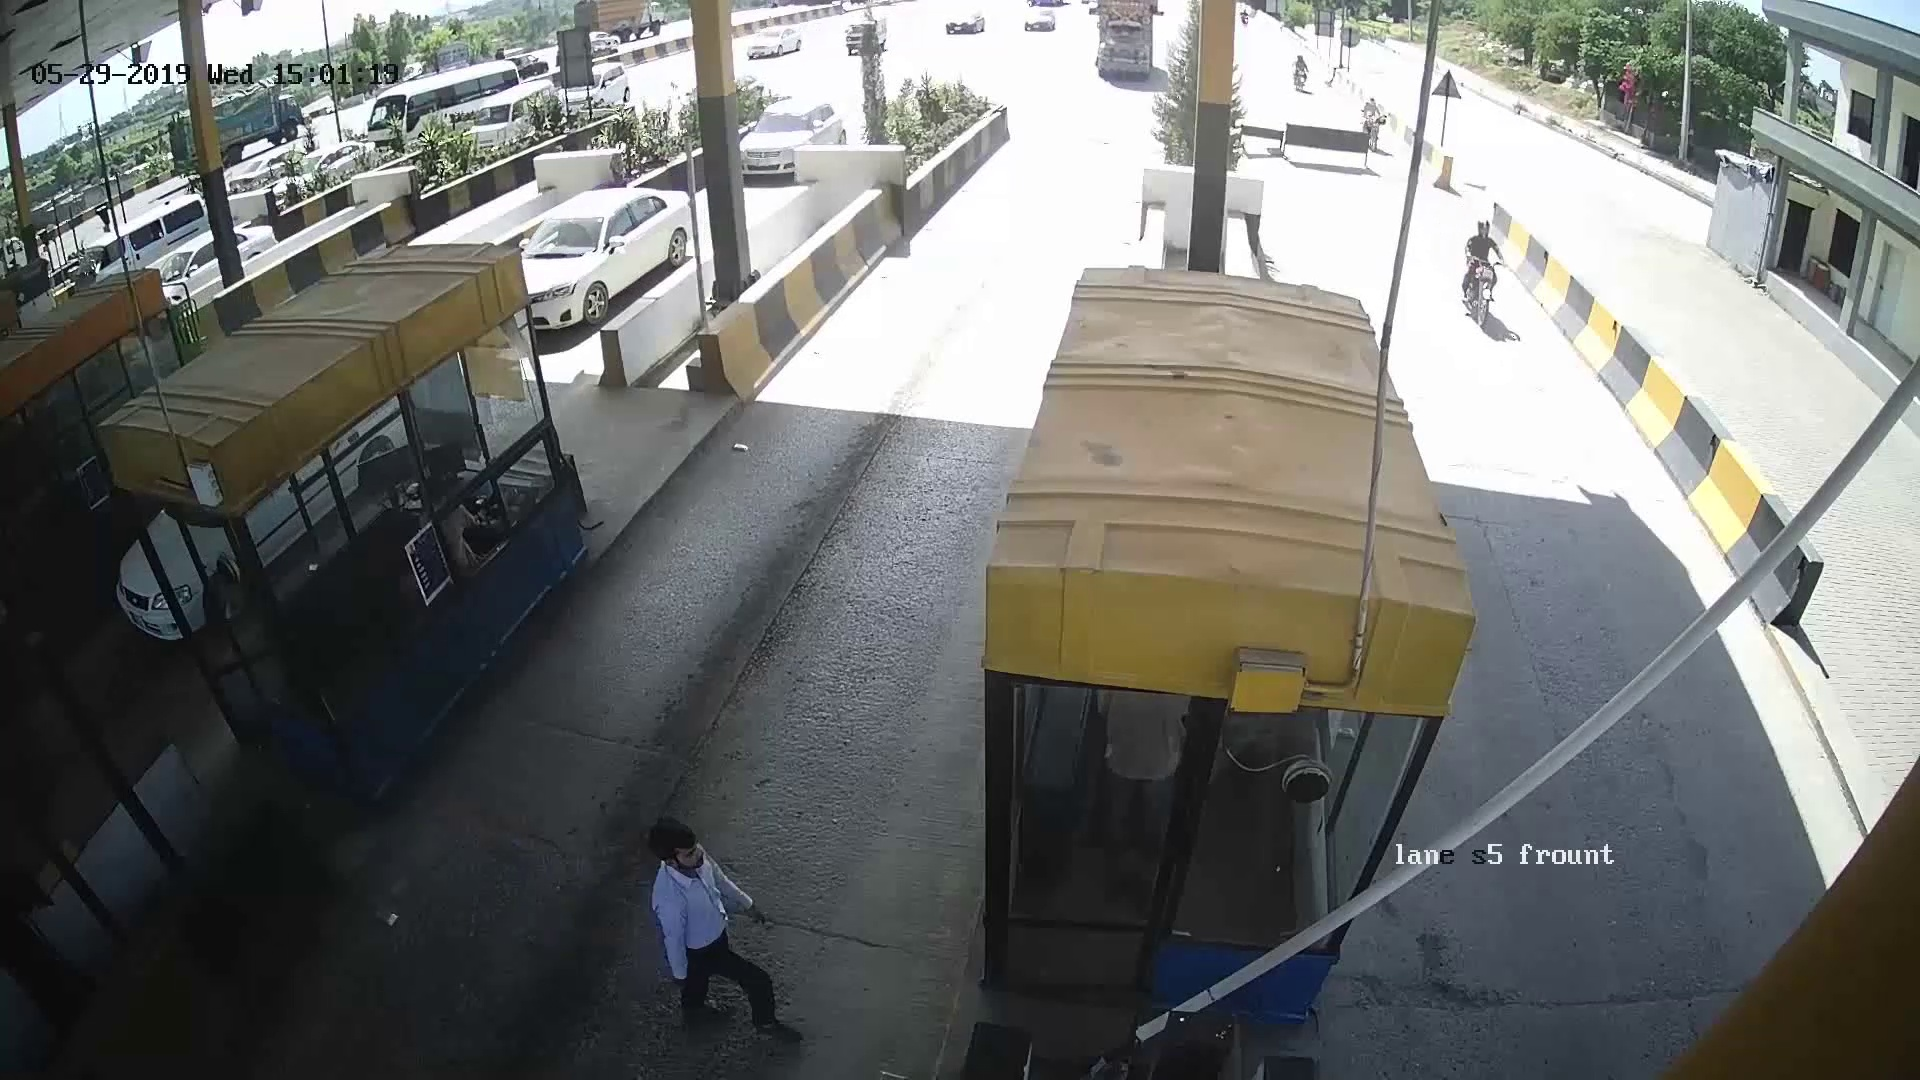truck: (1071, 9, 1160, 87)
